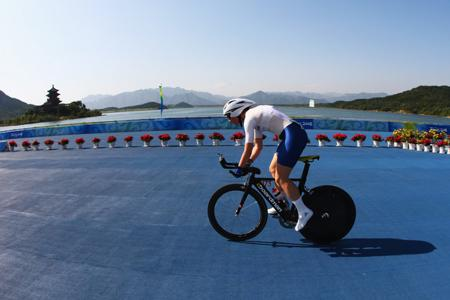person: (225, 97, 314, 233)
